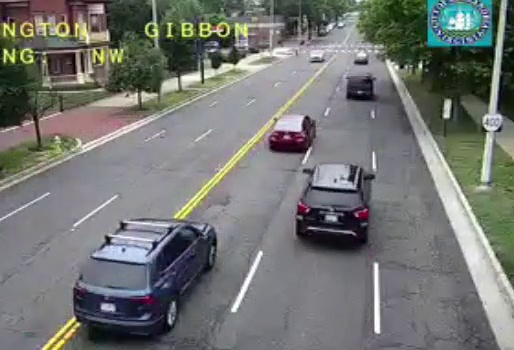car: (73, 219, 217, 335), (295, 163, 372, 241), (269, 114, 315, 149), (346, 74, 374, 101)
